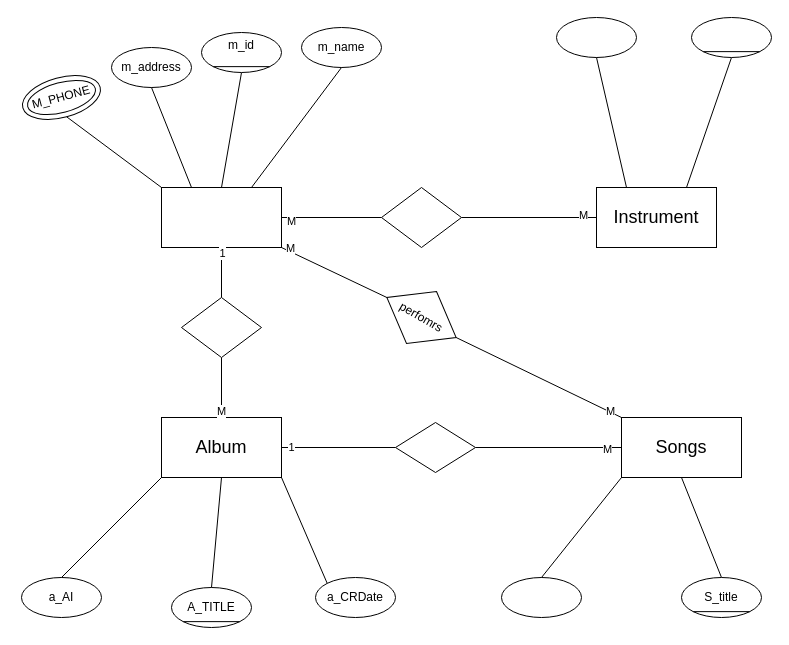
Some shapes in this 789 by 645 pixel diagram are drawn without their labels. Here are the shapes that lost their labels. From the top down, the box of each, then its label:
(556, 16, 636, 58): i_mKey
(690, 16, 772, 58): i_name
(160, 186, 282, 248): Musicians
(380, 186, 462, 248): plays
(180, 296, 262, 358): produces
(394, 422, 476, 472): Has
(500, 576, 582, 618): S_author
